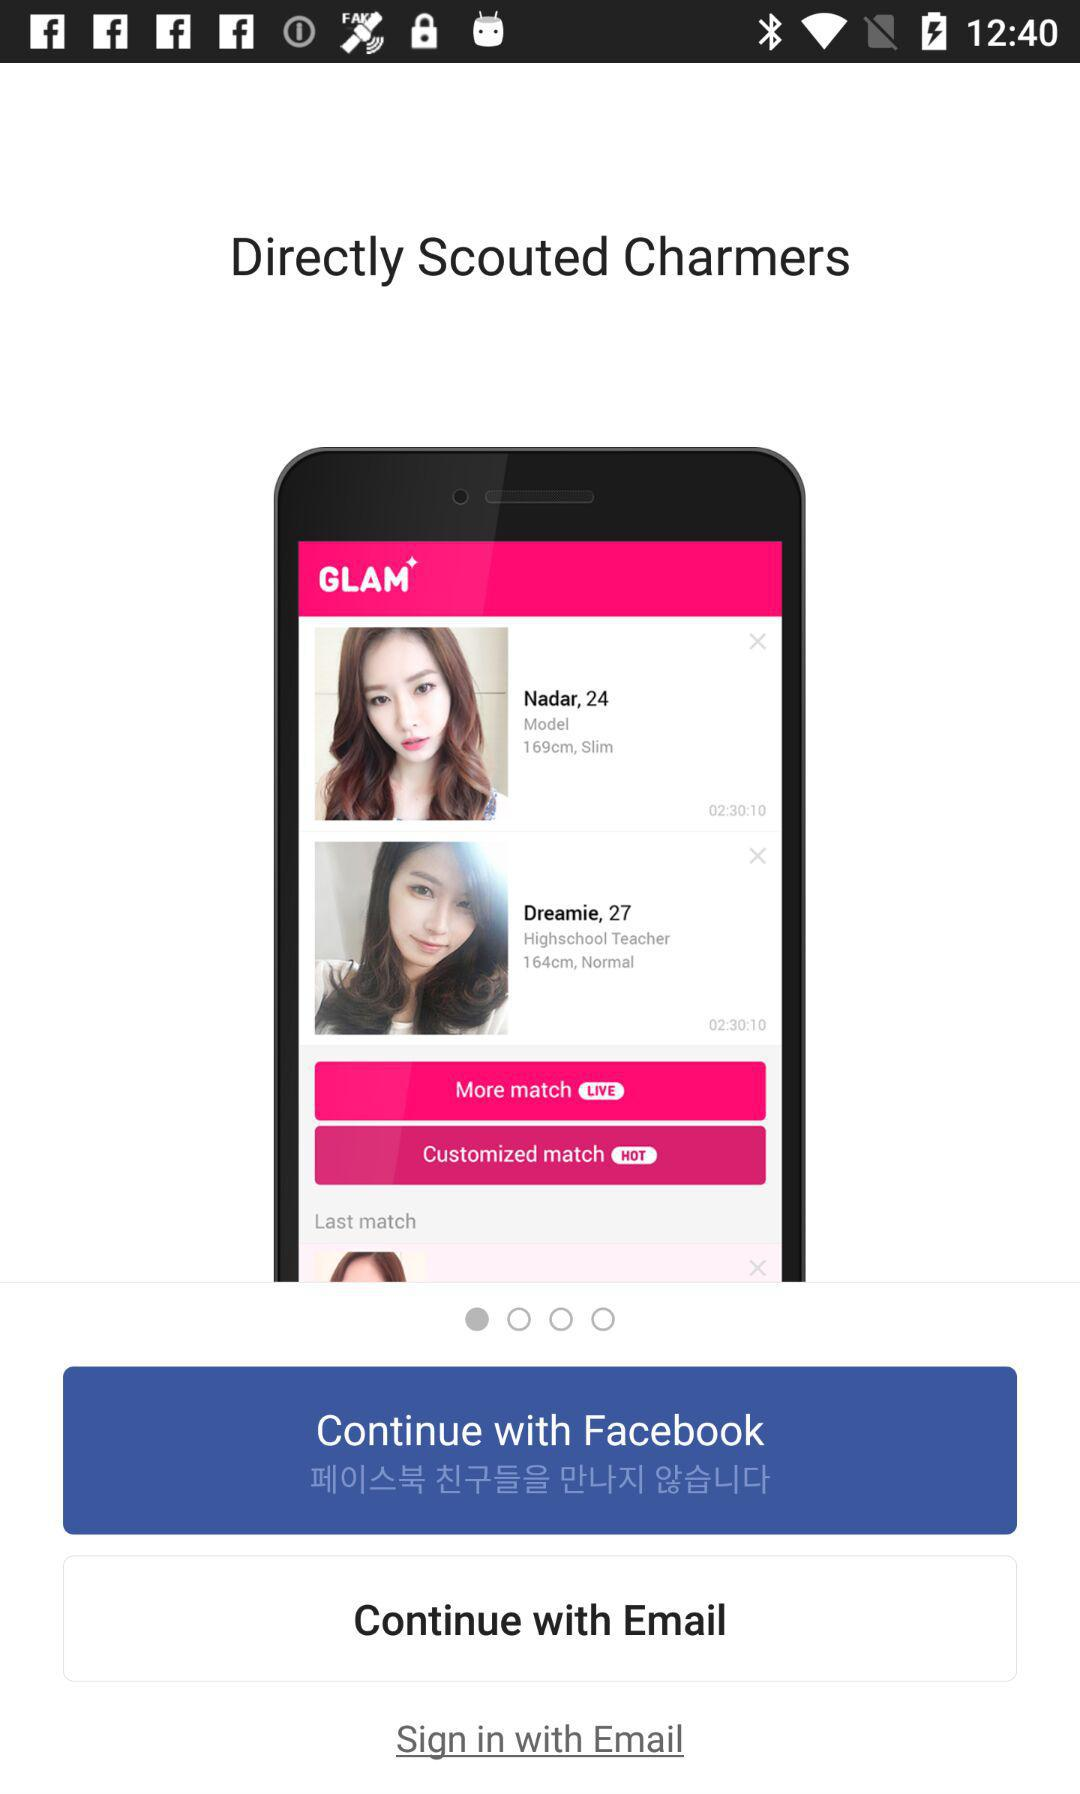Image: (274, 446, 806, 1283)
PageIndicator: (465, 1306, 618, 1333)
Text: (232, 235, 849, 290), (396, 1724, 685, 1759)
TextButton: (63, 1366, 1017, 1535), (63, 1554, 1019, 1683)
UpperTaskBar: (1, 1, 1080, 64)
